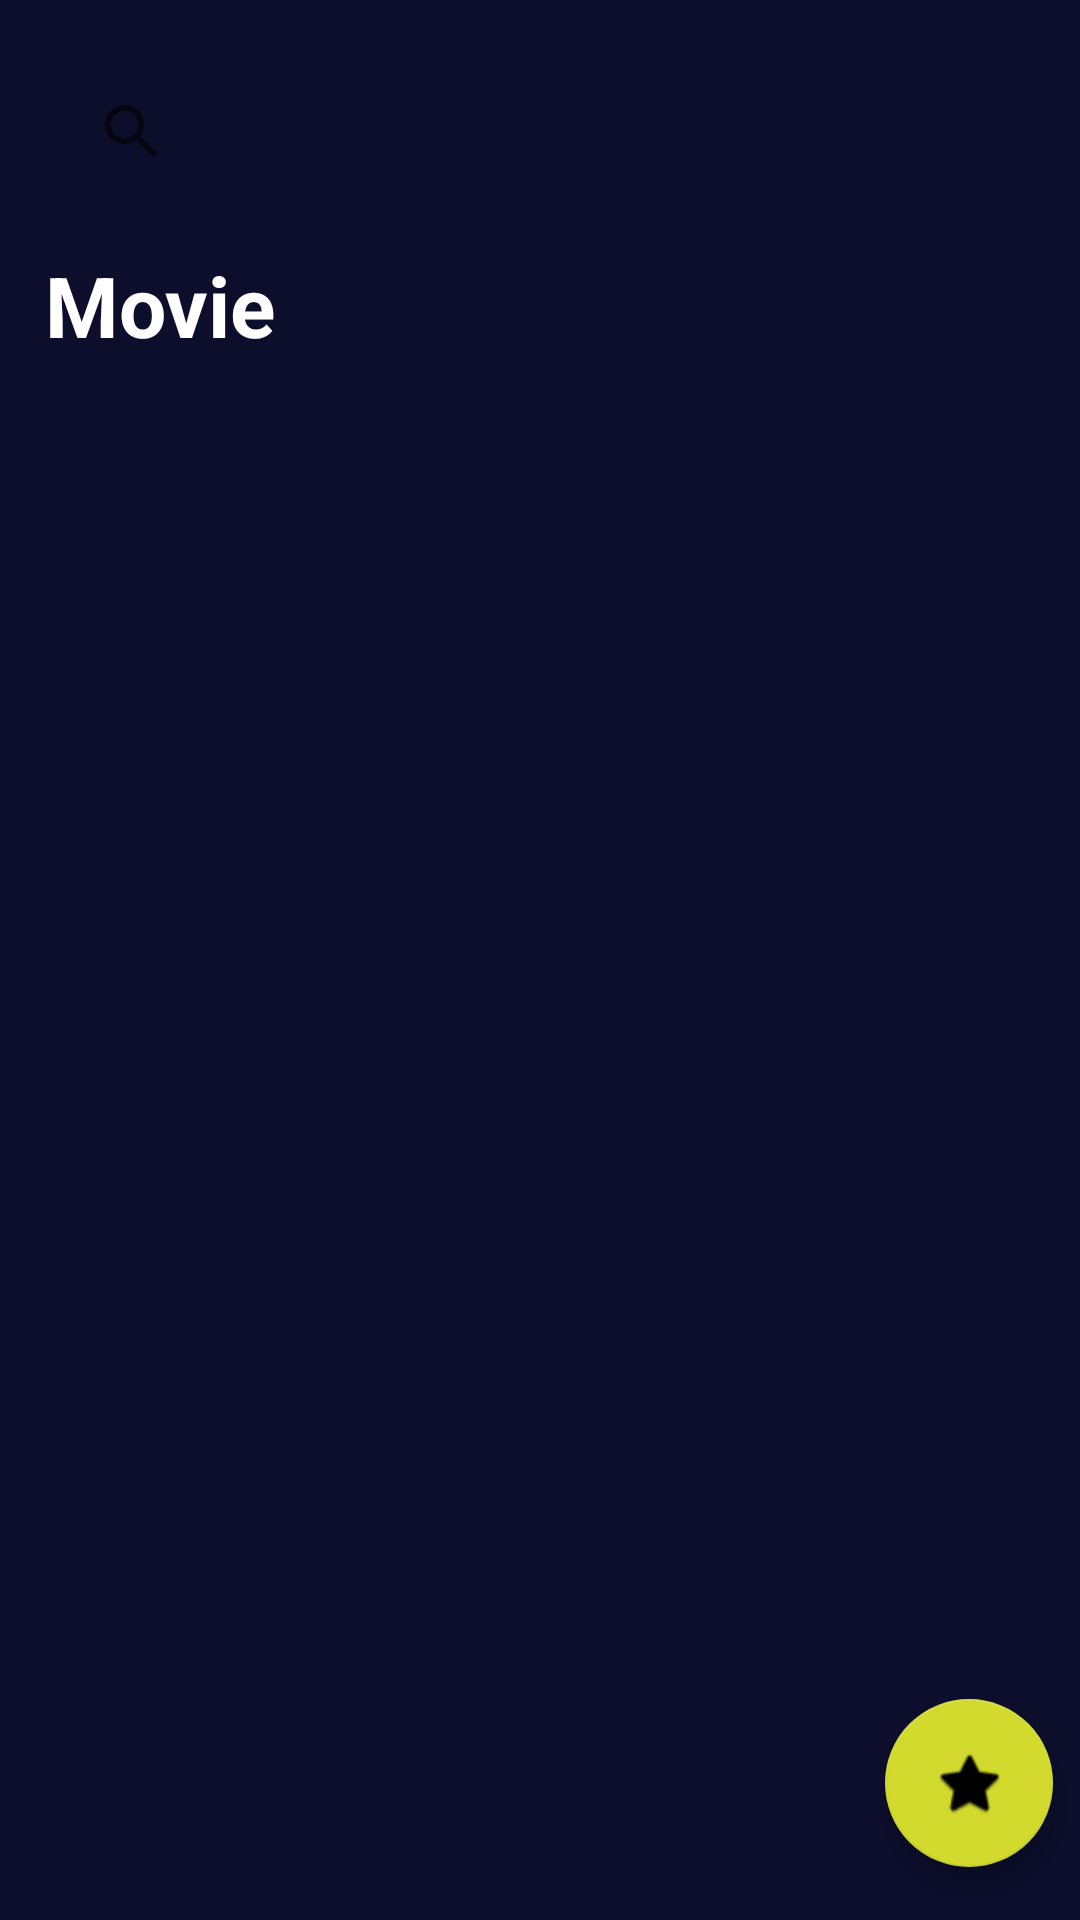

Icons on this 1080 × 1920 Android screen, each with its box as Rect(x1, y1, x2, y2):
star on: Rect(885, 1699, 1053, 1867)
